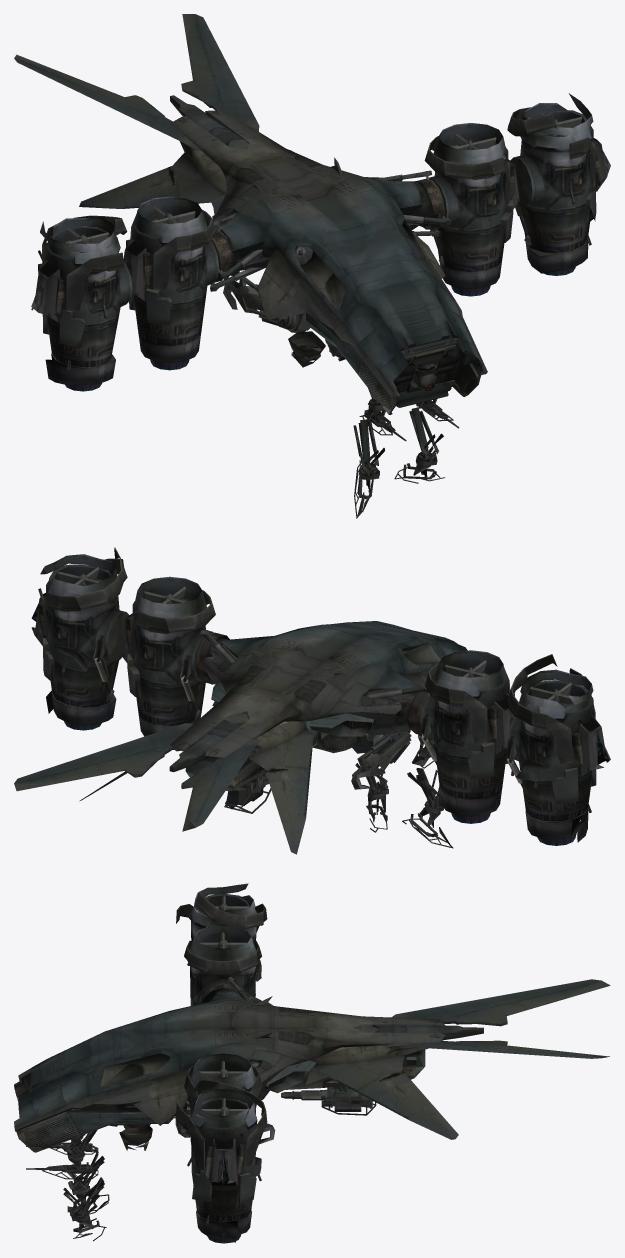
File: hk_aerial.m.glb
3 views of the same model, one above another, from view 1: azimuth 30°, elevation 25°; view 2: azimuth 150°, elevation 25°; view 3: azimuth 270°, elevation 25° (orthographic). The views are drawn at different scales.
Visible parts, largest first — view 1: Object_6; view 2: Object_6; view 3: Object_6.
Part boxes in pixels (x1,y1,x2,y2): Object_6: (14,14,610,518); Object_6: (14,547,610,854); Object_6: (14,883,610,1243).
Size of the model in its own units: 2138 by 1016 by 2173.
1 material, 1 textured.
